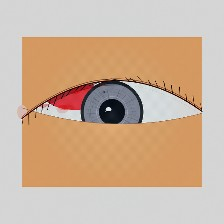hemorrhage_spot: (33, 62, 118, 130)
